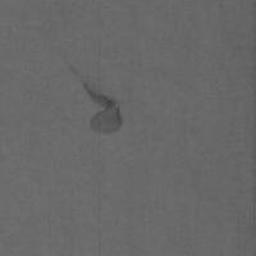Water spot: (69, 65, 124, 134)
